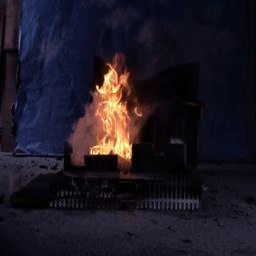fire: (76, 50, 143, 162)
